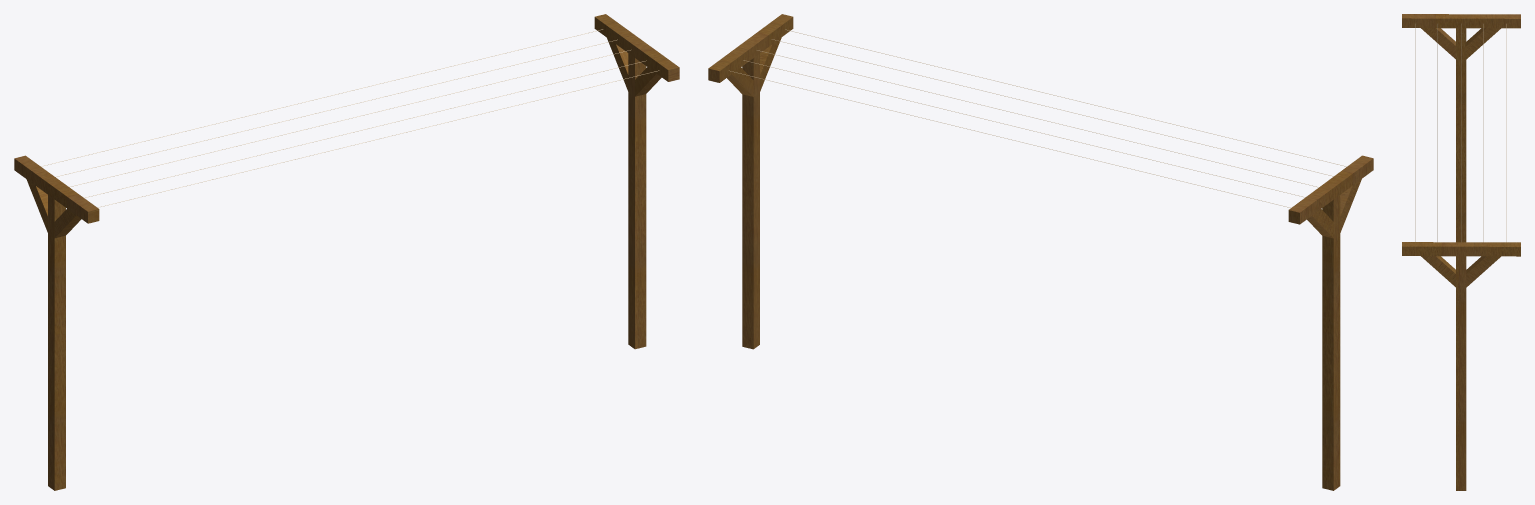
File: sweethome3d-contributions-cloth-lines-469.glb
3 views of the same model, side by side, from view 1: azimuth 30°, elevation 25°; view 2: azimuth 150°, elevation 25°; view 3: azimuth 270°, elevation 25° (orthographic). The views are drawn at different scales.
Visible parts, largest first — view 1: Right, Left, Strings; view 2: Left, Right, Strings; view 3: Right, Left, Strings.
Boxes of the visible parts, box(x1,y1,x2,y2) form: Right: box(594, 14, 679, 349); Left: box(14, 155, 99, 490); Strings: box(41, 29, 659, 207); Left: box(1288, 155, 1373, 490); Right: box(708, 14, 793, 349); Strings: box(729, 29, 1346, 207); Right: box(1402, 242, 1520, 490); Left: box(1402, 14, 1520, 242); Strings: box(1415, 24, 1506, 241).
Size of the model in its own units: 417 by 204 by 90.08.
Materials: 2 (1 with a texture image).
